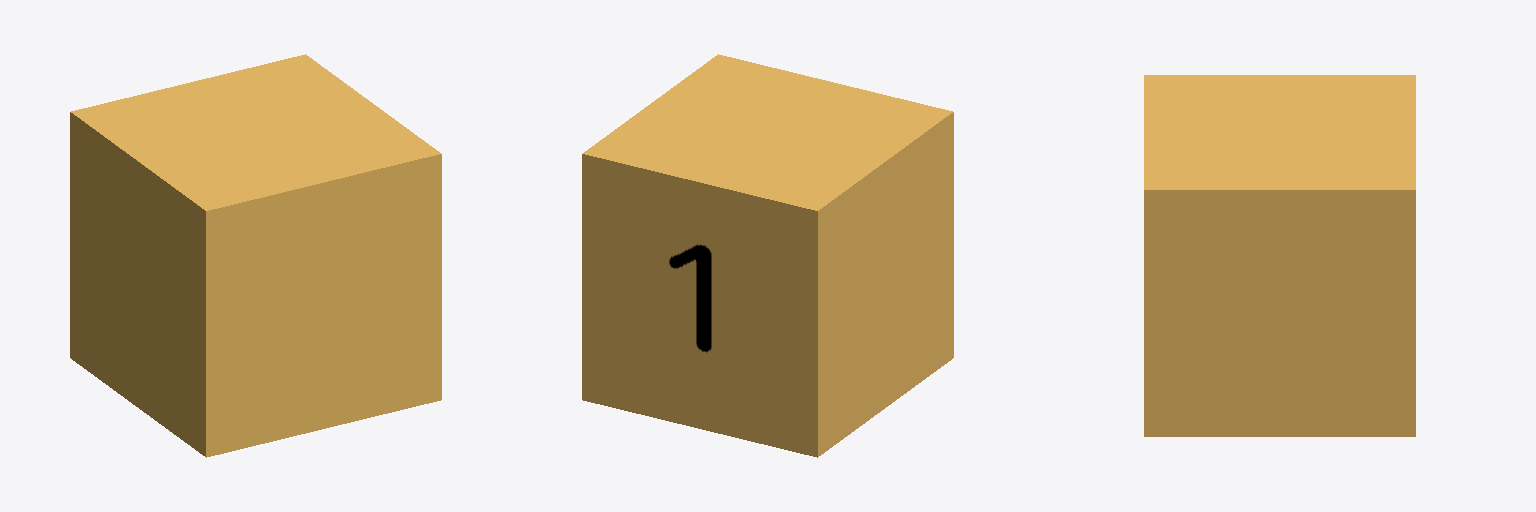
3 renders of one model, left to right at view 1: azimuth 30°, elevation 25°; view 2: azimuth 150°, elevation 25°; view 3: azimuth 270°, elevation 25°, orthographic.
Parts seen in each view (by area): view 1: Cube; view 2: Cube; view 3: Cube.
Part boxes in pixels (bbox=[...]): Cube: bbox=[70, 54, 441, 457]; Cube: bbox=[582, 54, 953, 457]; Cube: bbox=[1144, 75, 1415, 436].
Size of the model in its own units: 6 by 6 by 6.
Materials: 1 (1 with a texture image).